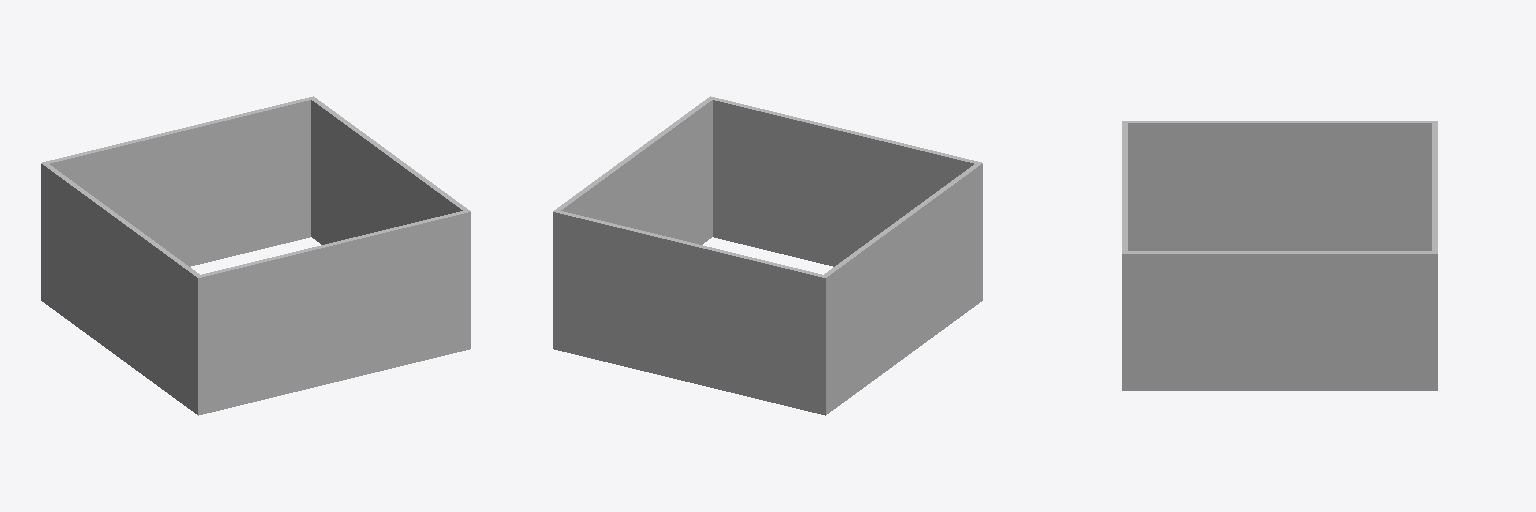
The model's file is theme-room-walls.obj.
3 renders of one model, left to right at view 1: azimuth 30°, elevation 25°; view 2: azimuth 150°, elevation 25°; view 3: azimuth 270°, elevation 25°, orthographic.
Visible parts, largest first — view 1: Cube_Cube.001; view 2: Cube_Cube.001; view 3: Cube_Cube.001.
Part boxes in pixels (bbox=[...]): Cube_Cube.001: bbox=[41, 96, 470, 415]; Cube_Cube.001: bbox=[553, 96, 982, 415]; Cube_Cube.001: bbox=[1122, 121, 1437, 390].
Bounding box in the file's own units: 10.4 × 5 × 10.4.